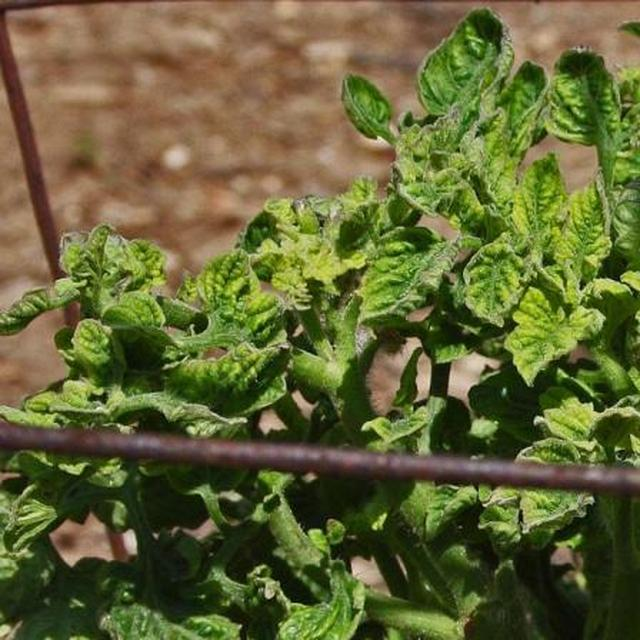Yellow Leaf Curl Virus: (80, 70, 640, 554)
